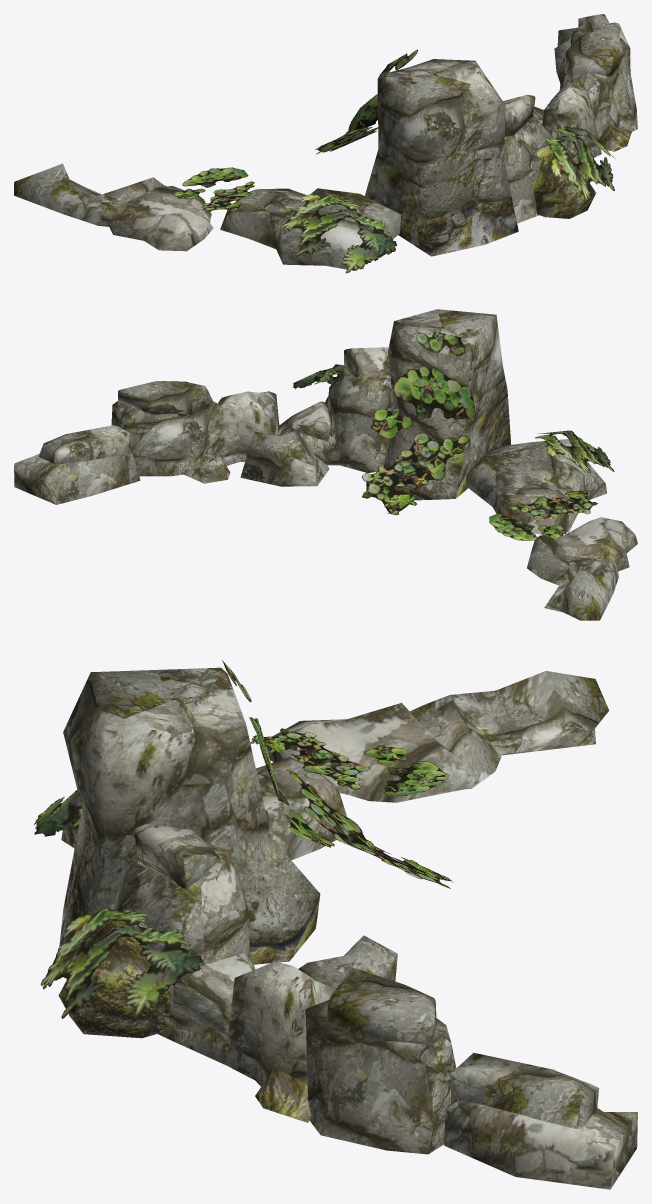
Rendered from ruin-wall.glb.
3 views of the same model, one above another, from view 1: azimuth 30°, elevation 25°; view 2: azimuth 150°, elevation 25°; view 3: azimuth 270°, elevation 25° (orthographic). The views are drawn at different scales.
Visible parts, largest first — view 1: ruin-wall_mesh; view 2: ruin-wall_mesh; view 3: ruin-wall_mesh.
Part boxes in pixels (box(x1,y1,x2,y2)): ruin-wall_mesh: box(14, 14, 637, 273); ruin-wall_mesh: box(14, 309, 637, 620); ruin-wall_mesh: box(34, 660, 637, 1189).
Bounding box in the file's own units: 3.47 × 0.8939 × 1.89.
Materials: 2 (2 with a texture image).
